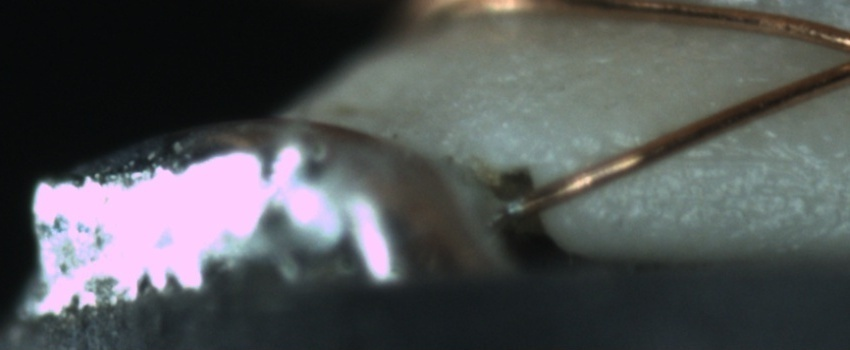DL: (636, 130, 841, 185)
